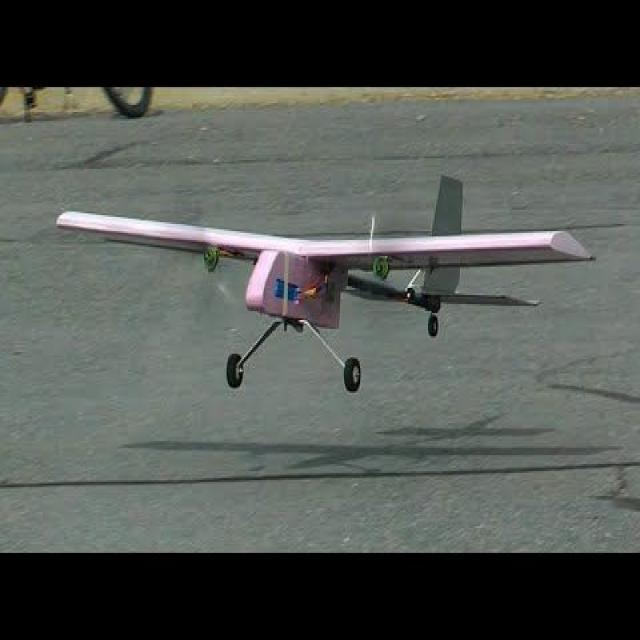iha: (51, 173, 595, 391)
